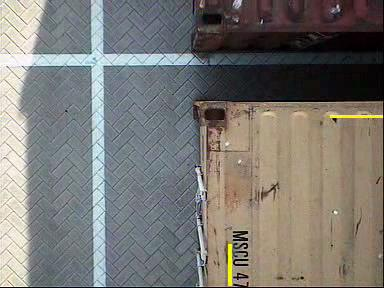groundmarker_2: (199, 158, 233, 219)
